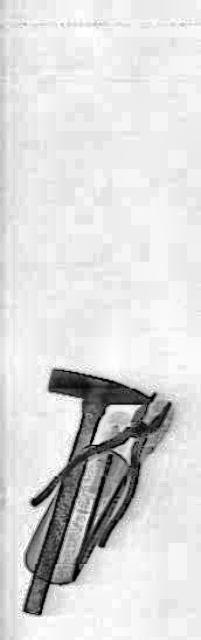Pliers: (29, 330, 177, 618)
